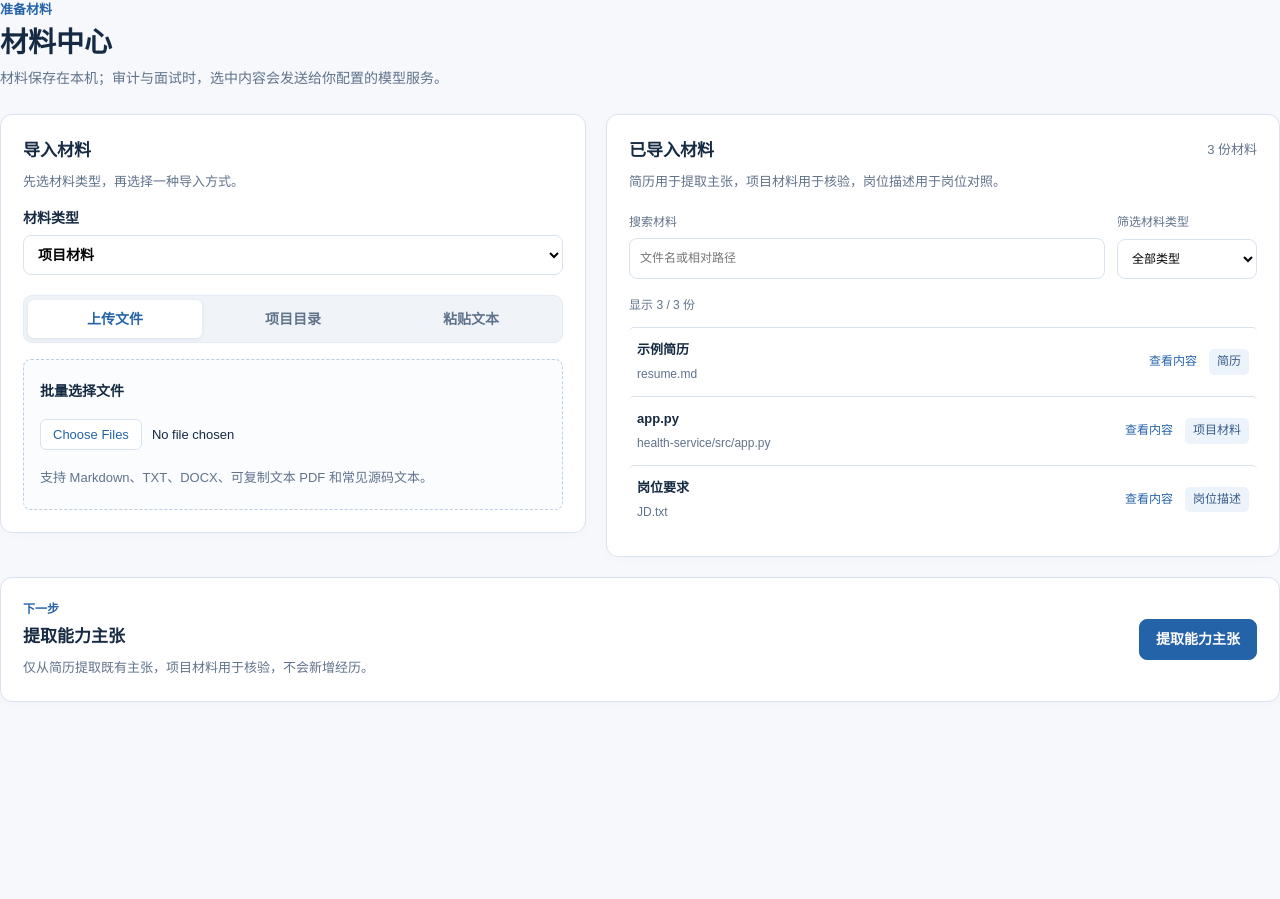
快速切换后忽略旧请求迟到的结果
Click the button "app.py health-service/src/app.py 查看内容". click: (658, 418)
box: left=637, top=409, right=1173, bottom=453
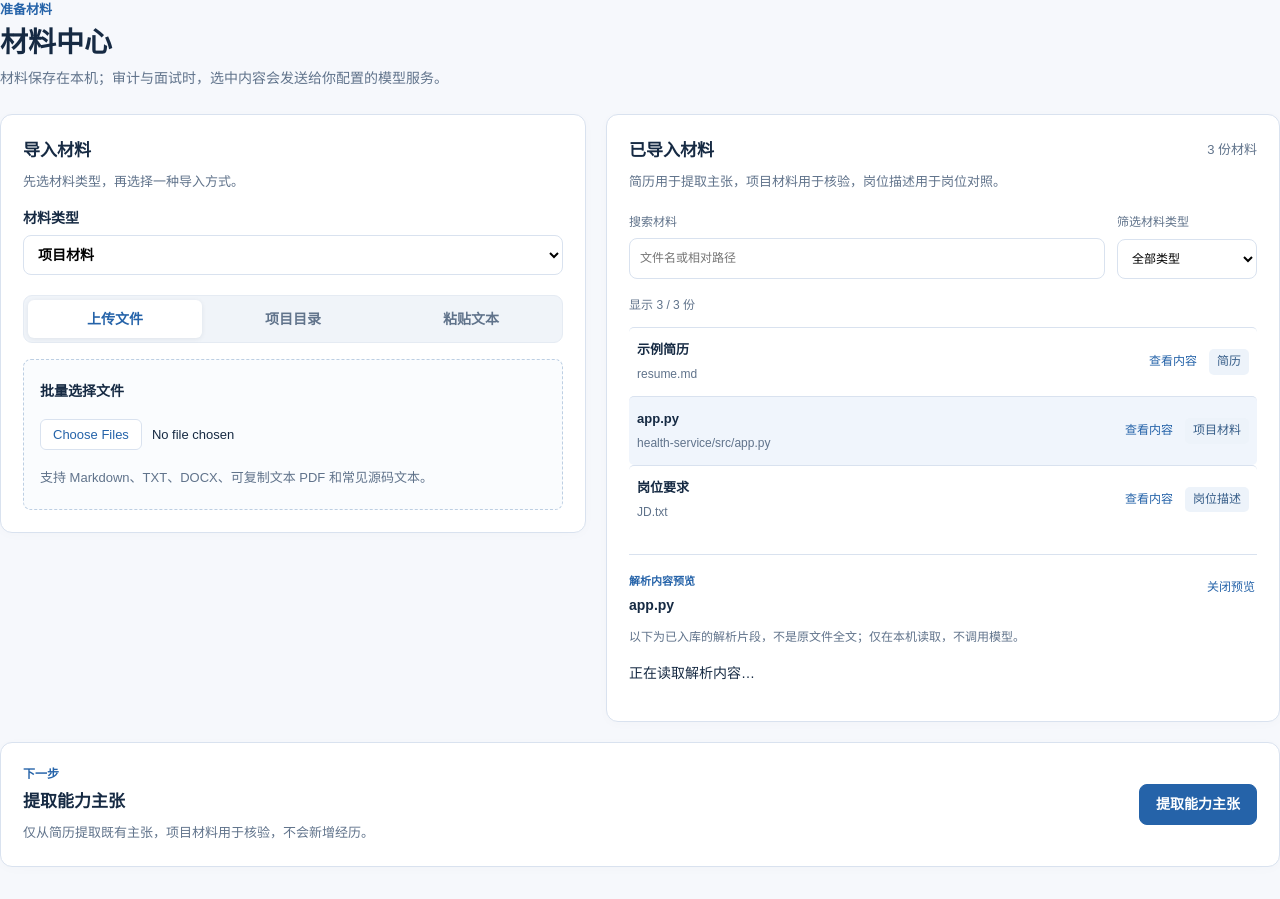
Check: the text "正在读取解析内容…" is shown, box left=629, top=666, right=755, bottom=682
Click the button "示例简历 resume.md 查看内容". click: (663, 349)
box: left=637, top=340, right=1197, bottom=384
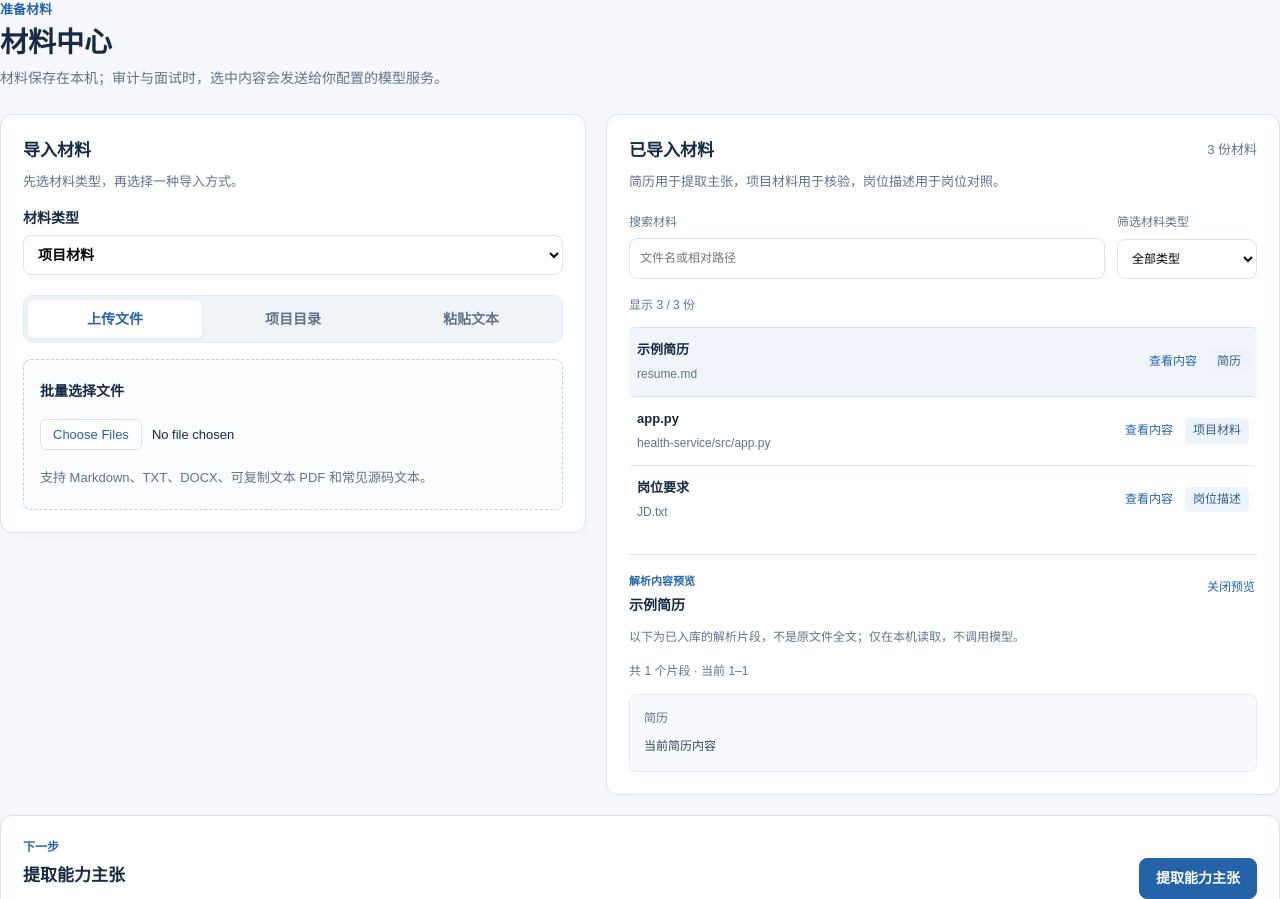
Check: the text "当前简历内容" is shown, box left=644, top=739, right=716, bottom=753
